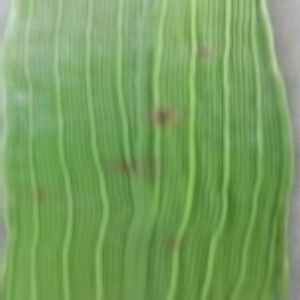Bacterial_Leaf_Blight: (147, 102, 181, 129), (158, 234, 187, 253), (114, 156, 140, 177), (192, 41, 217, 61), (29, 187, 49, 200)
